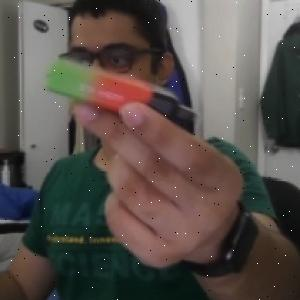Swift-E-Ciggirate: (45, 53, 198, 125)
